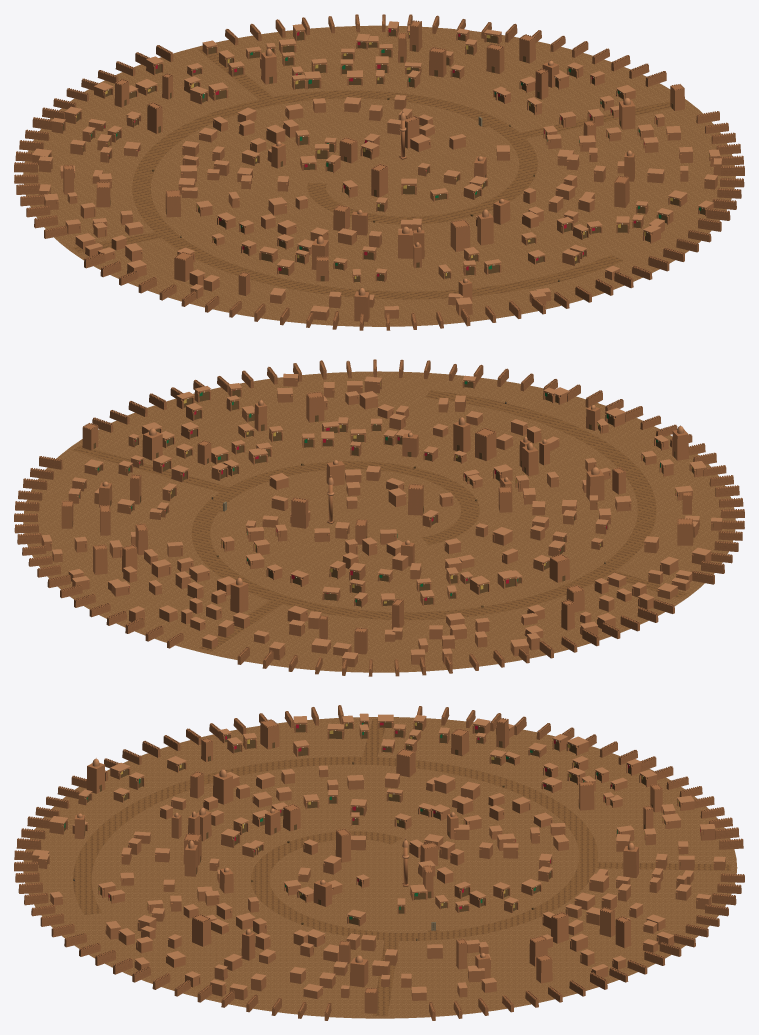
File: SouqAlDawar.gltf
3 renders of one model, top to bottom at view 1: azimuth 30°, elevation 25°; view 2: azimuth 150°, elevation 25°; view 3: azimuth 270°, elevation 25°, orthographic.
Parts seen in each view (by area): view 1: SM_Souq_Ground, SM_Souq_Street, SM_Souq_Warehouse_W5D45_Crenel_081, SM_Souq_Warehouse_W5D45_Dome_082, SM_Souq_Warehouse_W4D45_Crenel_007, SM_Souq_Warehouse_W5D30_Crenel_151; view 2: SM_Souq_Ground, SM_Souq_Street, SM_Souq_Warehouse_W5D45_Crenel_081, SM_Souq_Warehouse_W4D45_Dome_128, SM_Souq_Warehouse_W5D45_Dome_180, SM_Souq_Warehouse_W5D45_Dome_082, SM_Souq_Warehouse_W5D45_Crenel_143, SM_Souq_Warehouse_W5D45_Dome_105, SM_Souq_Warehouse_W3D45_Crenel_011, SM_Souq_Warehouse_W5D45_Crenel_100; view 3: SM_Souq_Ground, SM_Souq_Street, SM_Souq_Warehouse_W5D45_Dome_105, SM_Souq_Warehouse_W5D45_Crenel_143, SM_Souq_Warehouse_W5D45_Dome_247, SM_Souq_Warehouse_W5D45_Dome_180, SM_Souq_Warehouse_W5D45_Crenel_208.
Part boxes in pixels (box(x1,y1,x2,y2)): SM_Souq_Ground: box(23, 25, 735, 326); SM_Souq_Street: box(73, 48, 685, 299); SM_Souq_Warehouse_W5D45_Crenel_081: box(450, 219, 470, 251); SM_Souq_Warehouse_W5D45_Dome_082: box(477, 208, 493, 245); SM_Souq_Warehouse_W4D45_Crenel_007: box(371, 163, 388, 197); SM_Souq_Warehouse_W5D30_Crenel_151: box(486, 43, 504, 73); SM_Souq_Ground: box(23, 371, 735, 672); SM_Souq_Street: box(72, 390, 687, 651); SM_Souq_Warehouse_W5D45_Crenel_081: box(475, 427, 496, 460); SM_Souq_Warehouse_W4D45_Dome_128: box(230, 577, 248, 612); SM_Souq_Warehouse_W5D45_Dome_180: box(142, 427, 162, 460); SM_Souq_Warehouse_W5D45_Dome_082: box(453, 416, 470, 452); SM_Souq_Warehouse_W5D45_Crenel_143: box(306, 391, 324, 422); SM_Souq_Warehouse_W5D45_Dome_105: box(586, 466, 604, 501); SM_Souq_Warehouse_W3D45_Crenel_011: box(291, 497, 308, 528); SM_Souq_Warehouse_W5D45_Crenel_100: box(549, 554, 569, 582); SM_Souq_Ground: box(23, 717, 737, 1018); SM_Souq_Street: box(73, 719, 731, 1016); SM_Souq_Warehouse_W5D45_Dome_105: box(213, 768, 233, 804); SM_Souq_Warehouse_W5D45_Crenel_143: box(192, 914, 211, 946); SM_Souq_Warehouse_W5D45_Dome_247: box(87, 758, 105, 793); SM_Souq_Warehouse_W5D45_Dome_180: box(350, 955, 368, 987); SM_Souq_Warehouse_W5D45_Crenel_208: box(260, 719, 279, 749).
Size of the model in its own units: 249 by 18.03 by 251.
Materials: 13 (13 with a texture image).
